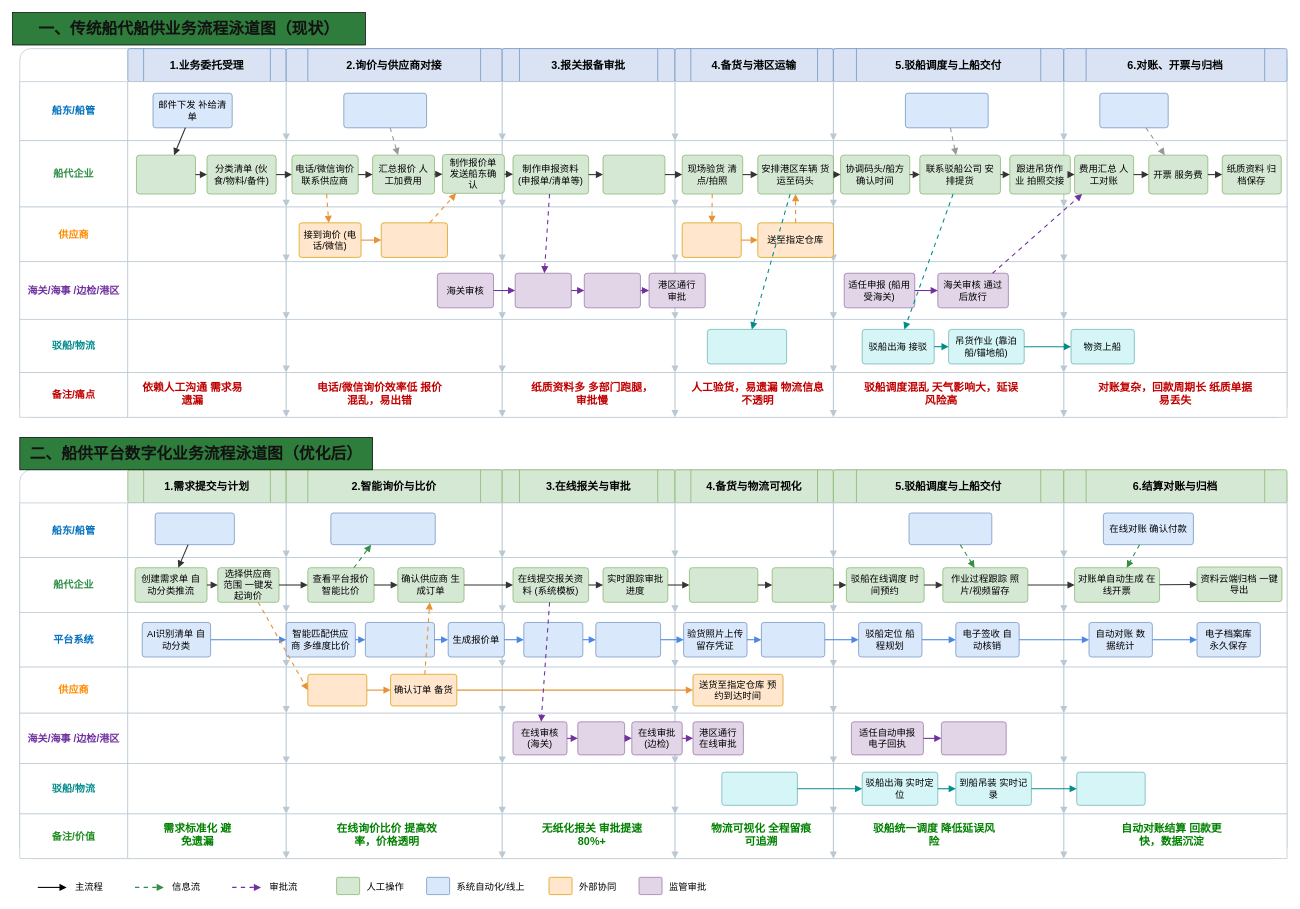
This 1300x909 diagram has some shape labels left out. Here are the shapes that lost their labels. From the top down, the box of each, then its label:
(343, 93, 427, 128): 确认报价单
(905, 93, 988, 128): 船长/大副 签字确认
(1099, 93, 1168, 128): 回收
(136, 154, 195, 194): 接收委托 整理需求
(602, 154, 665, 194): 多部门报送 人工跟进
(381, 222, 447, 257): 提供报价 库存/交期
(681, 222, 741, 257): 备货
(514, 273, 571, 308): 海事审核
(584, 273, 640, 308): 边检审批
(707, 329, 787, 364): 港区输运 至驳船装载点
(154, 512, 234, 545): 在线提交需求 上传清单/船期
(330, 512, 435, 545): 在线查看报价 智能比价
(908, 512, 992, 545): 在线签收 电子签名
(689, 567, 758, 602): 查看备货进度 验单记录
(771, 567, 833, 602): 港区运输 实时跟踪
(365, 622, 435, 657): 自动计算费用 (物料/服务/联系费用等)
(523, 622, 583, 657): 电子申报 一键提交
(595, 622, 661, 657): 审批进度看板 消息提醒
(761, 622, 825, 657): 物流轨迹跟踪 全程可视化
(307, 674, 367, 706): 接收询价 在线报价
(577, 721, 625, 755): 在线审核 (海事)
(941, 721, 1006, 755): 放行通过 允许作业
(721, 771, 797, 805): 港区输运 实时上报位置
(1076, 771, 1145, 805): 物资上船 电子签收
